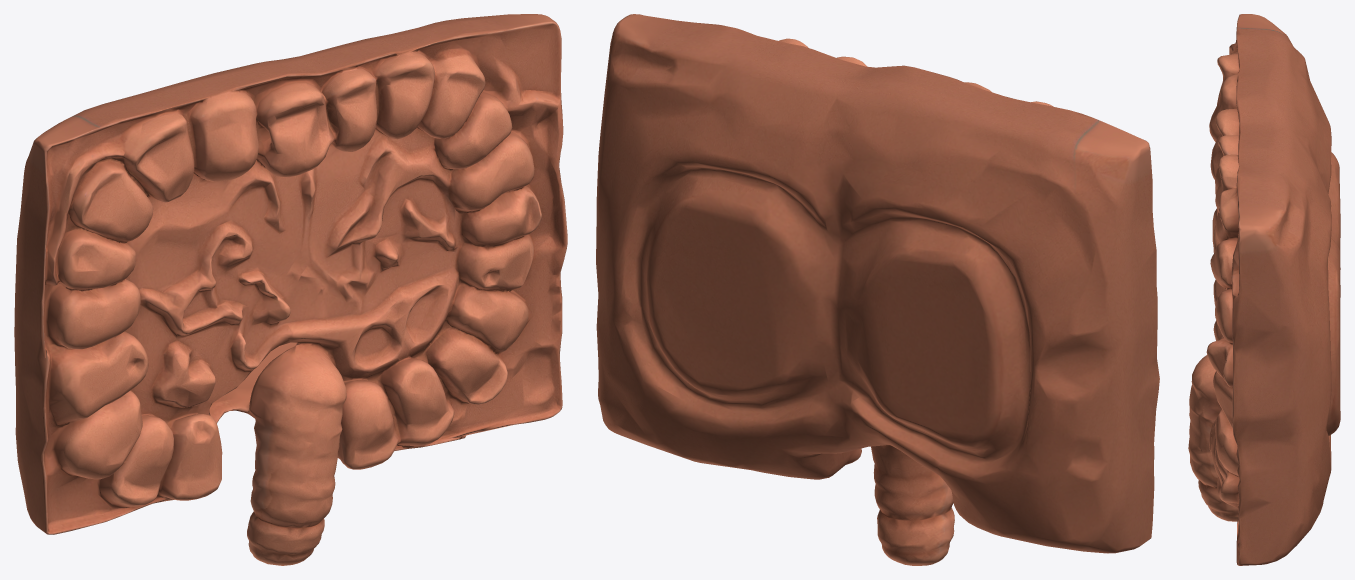
File: Part_HaustraWallPanel.glb
3 renders of one model, left to right at view 1: azimuth 30°, elevation 25°; view 2: azimuth 150°, elevation 25°; view 3: azimuth 270°, elevation 25°, orthographic. The views are drawn at different scales.
Bounding box in the file's own units: 1.9 × 1.67 × 0.5518.
1 material, 1 textured.
